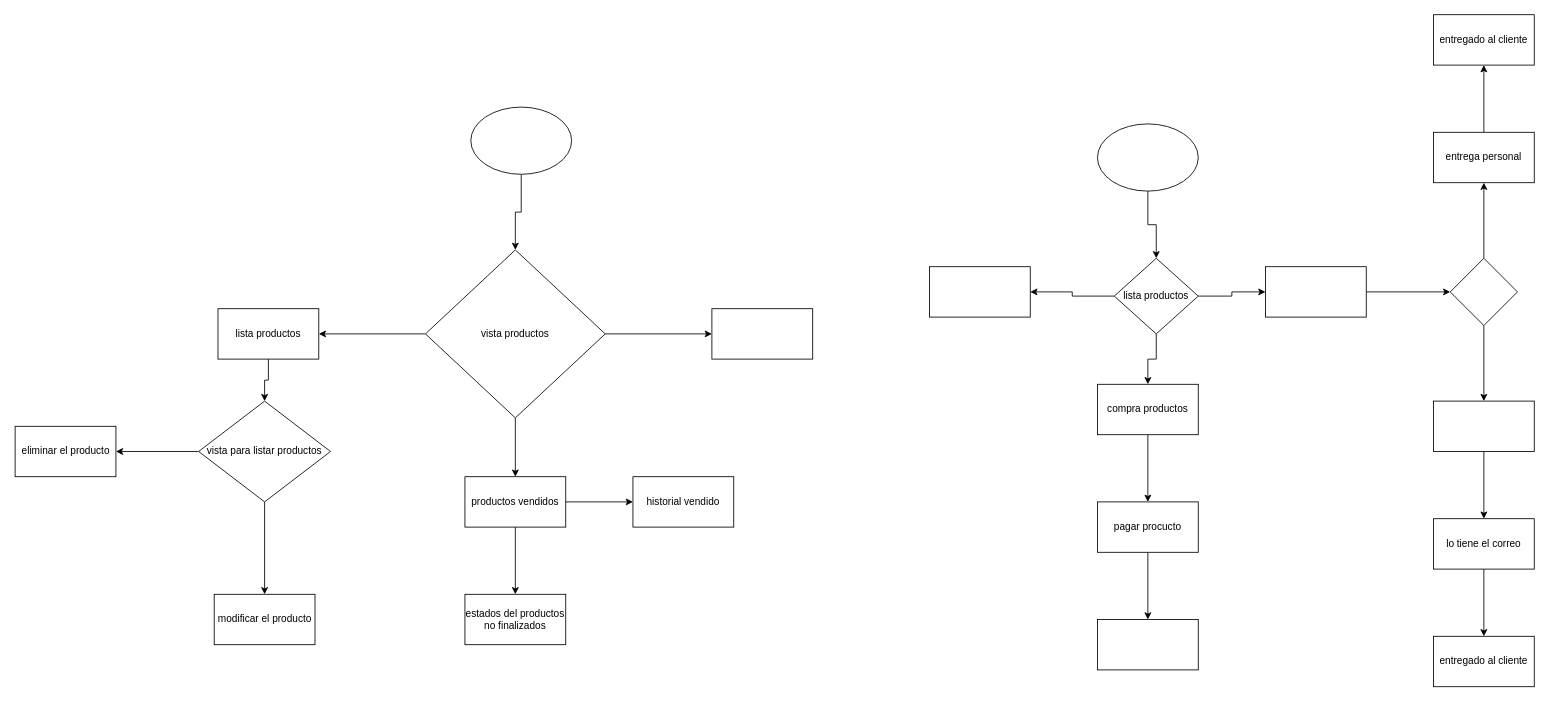
Image size: 1549x701. Some labels were removed from this diagram. Here are the shapes that lost their labels. From the top down, the centre of each, then its label:
At pixel 521 140: "profesional".
At pixel 1147 157: "cliente".
At pixel 979 291: "ver productos comprados".
At pixel 1315 291: "estado actual de un producto comprado por si va por correo".
At pixel 1483 291: "estados".
At pixel 762 333: "agrega productos".
At pixel 1483 426: "los tiene el profesional al producto".
At pixel 1147 644: "datos del profesional".
